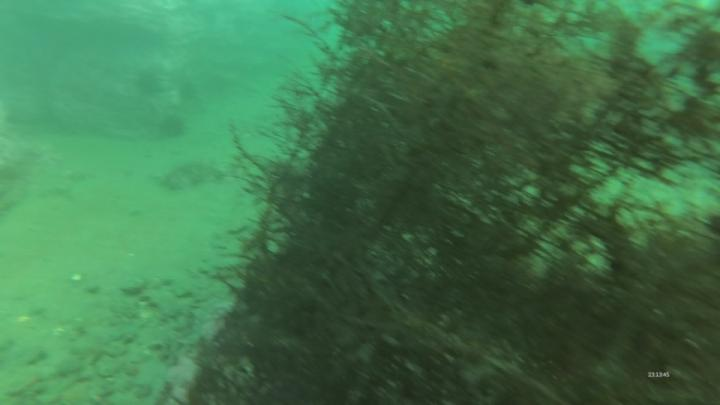waterweeds: (169, 2, 720, 405)
